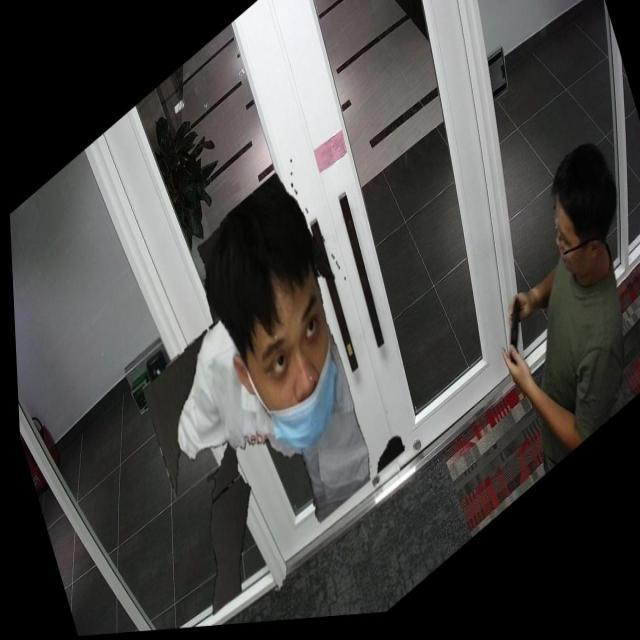hairnet: (238, 279, 352, 477)
